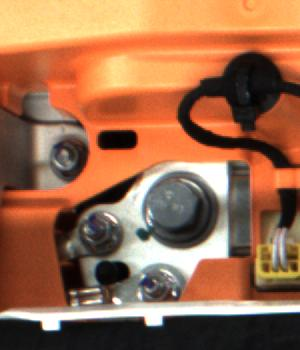nut_b: (134, 164, 222, 250)
screw_s: (78, 211, 117, 247), (45, 140, 82, 177), (136, 267, 174, 300)
